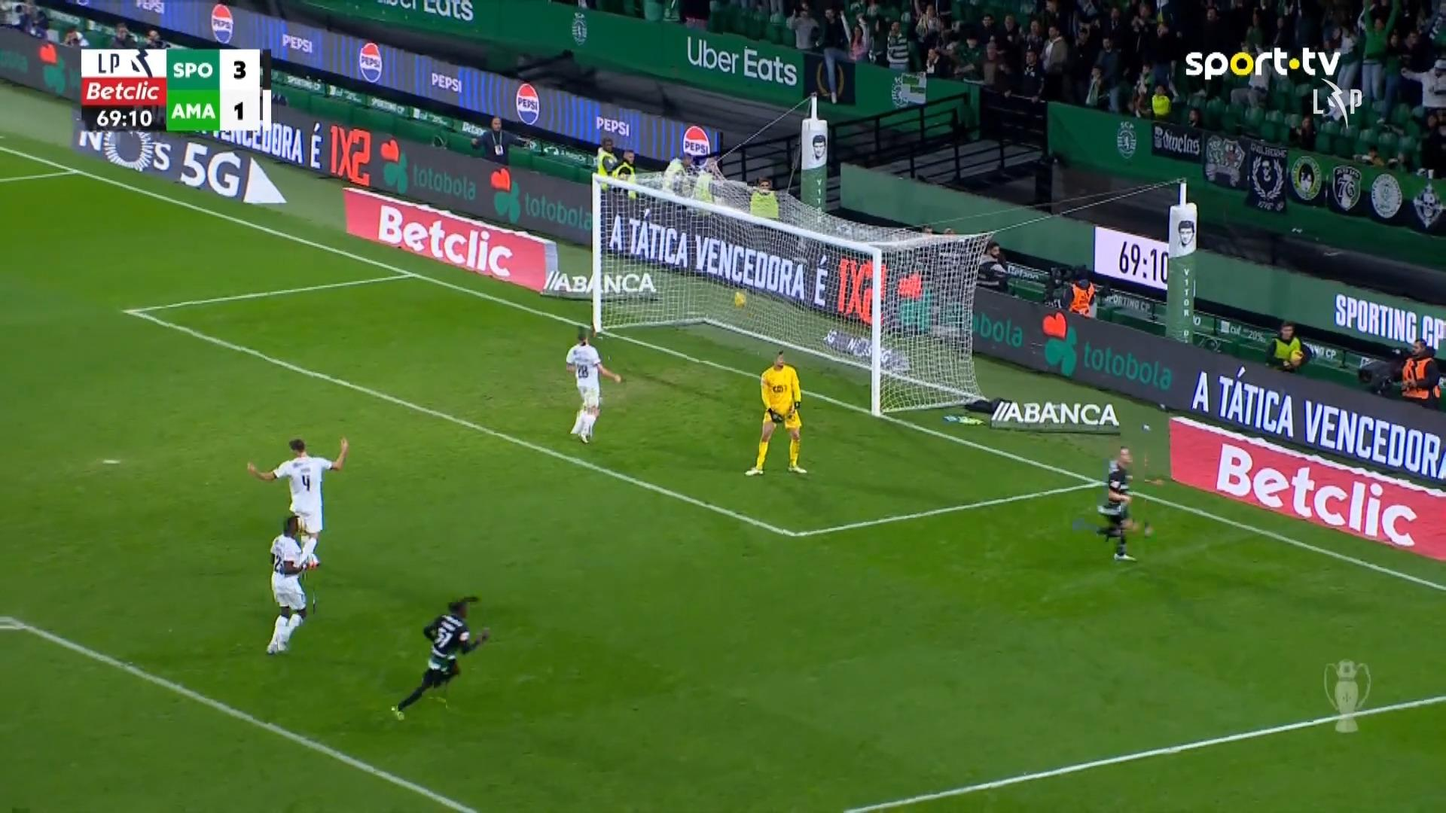ball: (733, 291, 746, 307)
goalkeeper: (744, 349, 807, 476)
player: (246, 434, 349, 570), (389, 594, 490, 721), (1095, 445, 1163, 561), (264, 514, 320, 654), (564, 326, 622, 444)
